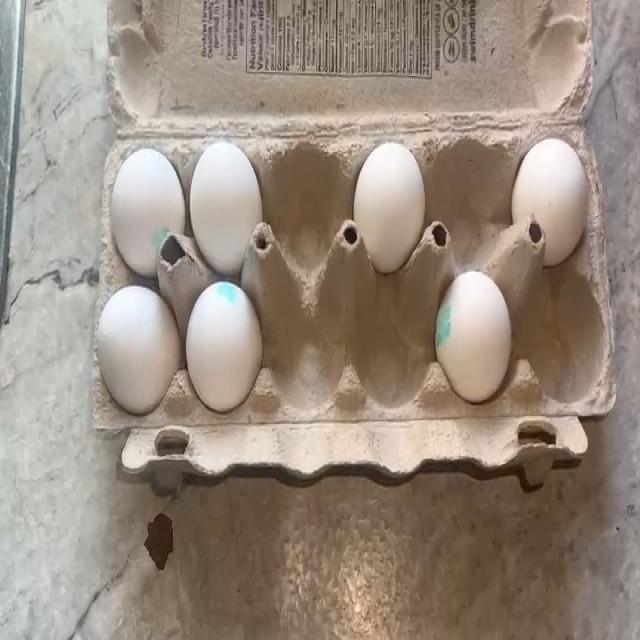Egg: (108, 146, 180, 258), (184, 294, 262, 396), (513, 140, 581, 253), (360, 140, 422, 260), (444, 283, 516, 385), (104, 302, 167, 417), (196, 146, 256, 254)
